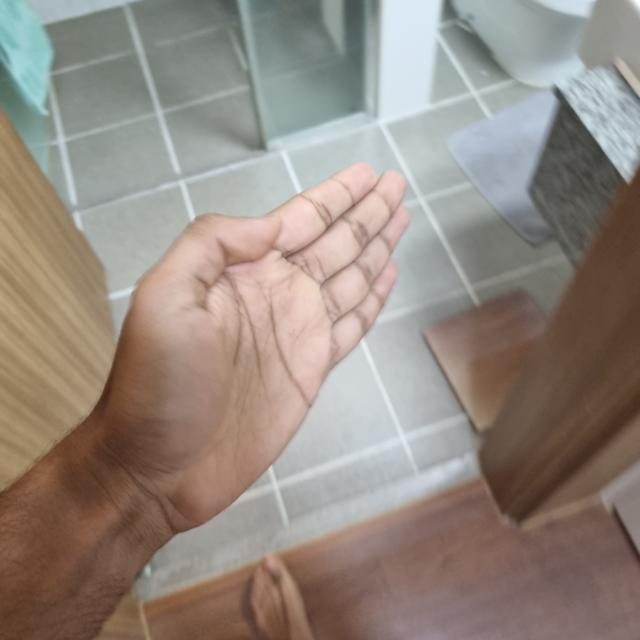Paper: (93, 157, 411, 517)
